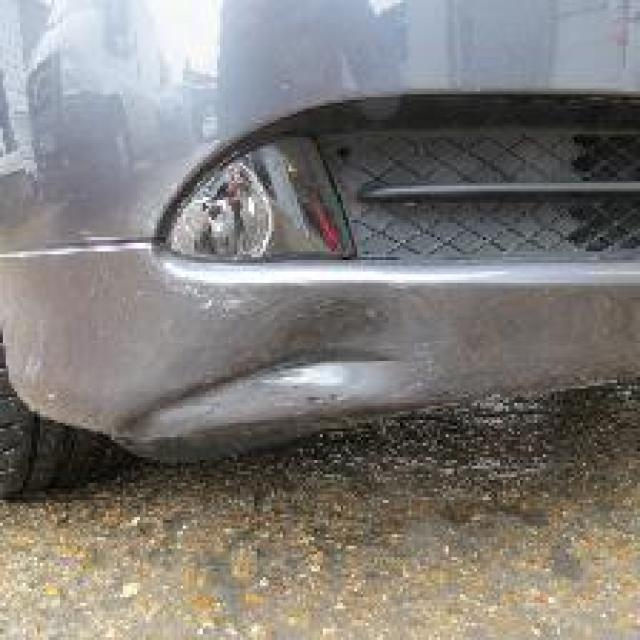damaged: (111, 346, 398, 443)
